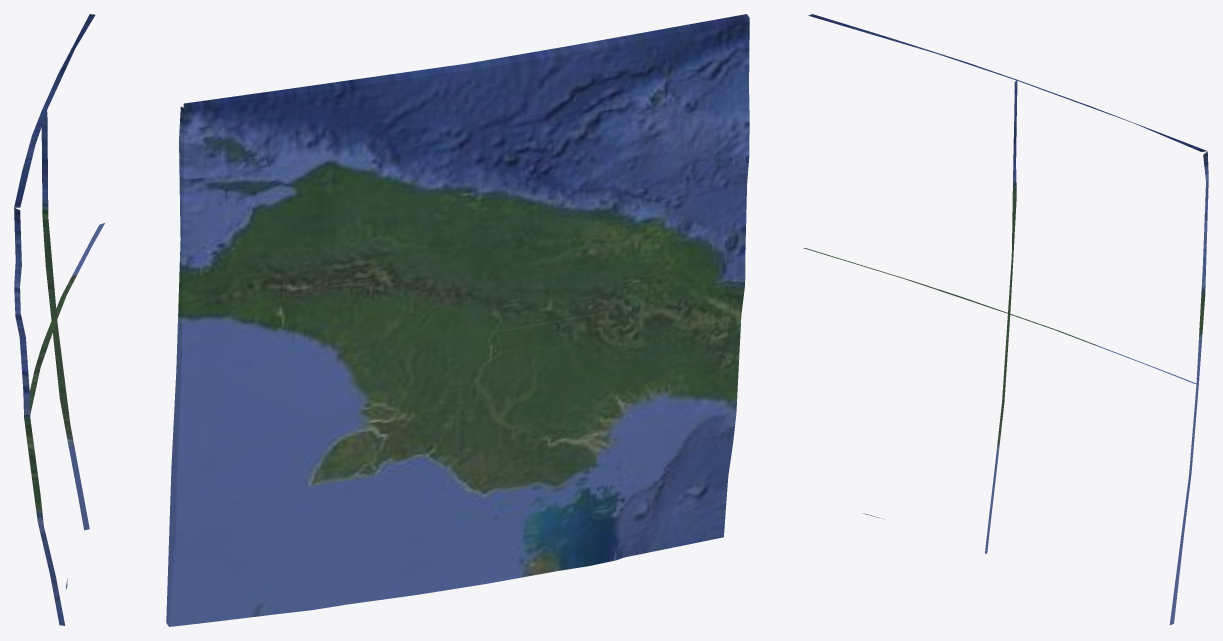
The picture shows the model from 3 angles, left to right: view 1: azimuth 30°, elevation 25°; view 2: azimuth 150°, elevation 25°; view 3: azimuth 270°, elevation 25°; orthographic projection. The views are drawn at different scales.
Bounding box in the file's own units: 892803 × 1252276 × 1057388.
1 material, 1 textured.
